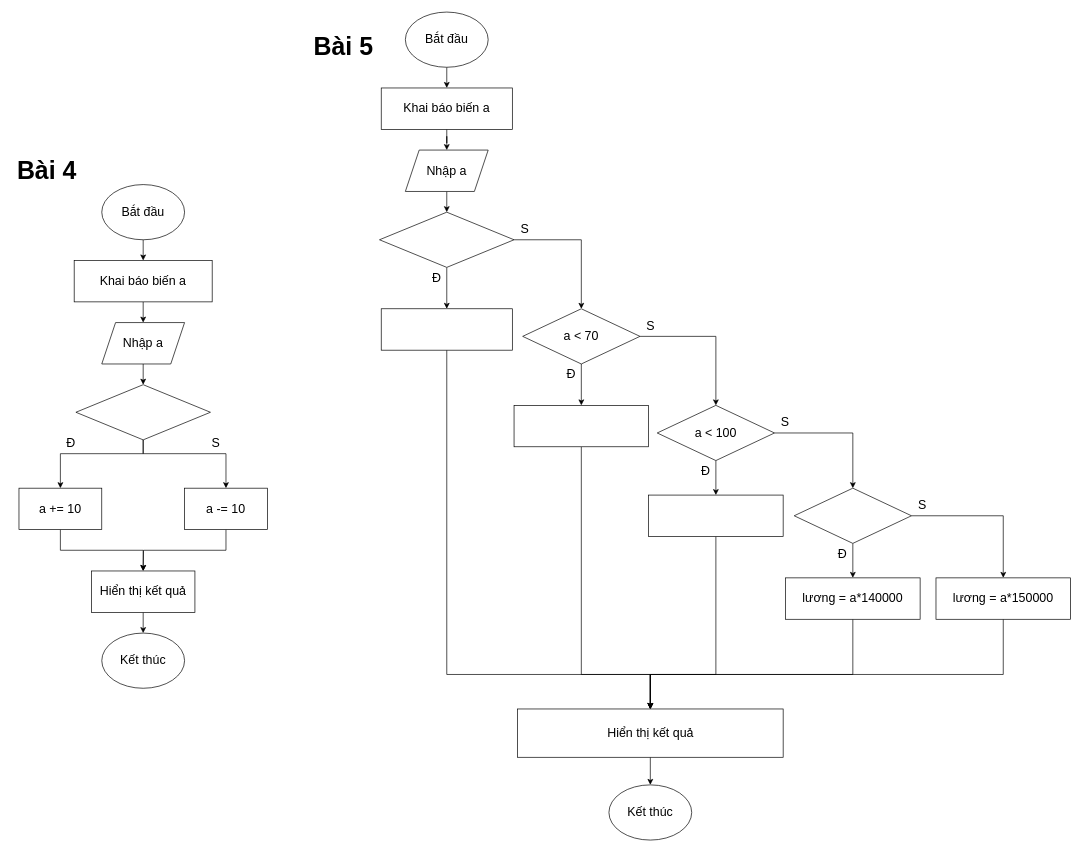
The diagram is 1083 pixels wide and 852 high, and some of its shapes have lost their labels. The shapes that lost their labels are listed below. From the top down, each one's centre as x and y in pixels, then its label:
At point 446,239: "a < 50".
At point 446,329: "lương = a*100000".
At point 142,412: "a%5==0".
At point 581,426: "lương = a*110000".
At point 715,515: "lương = a*120000".
At point 852,515: "a < 150".
